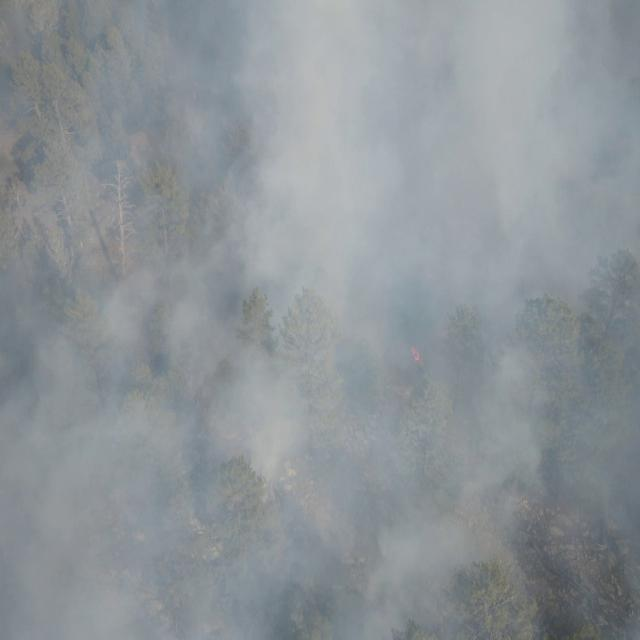fire: (410, 344, 426, 365)
smoke: (0, 0, 640, 640)
